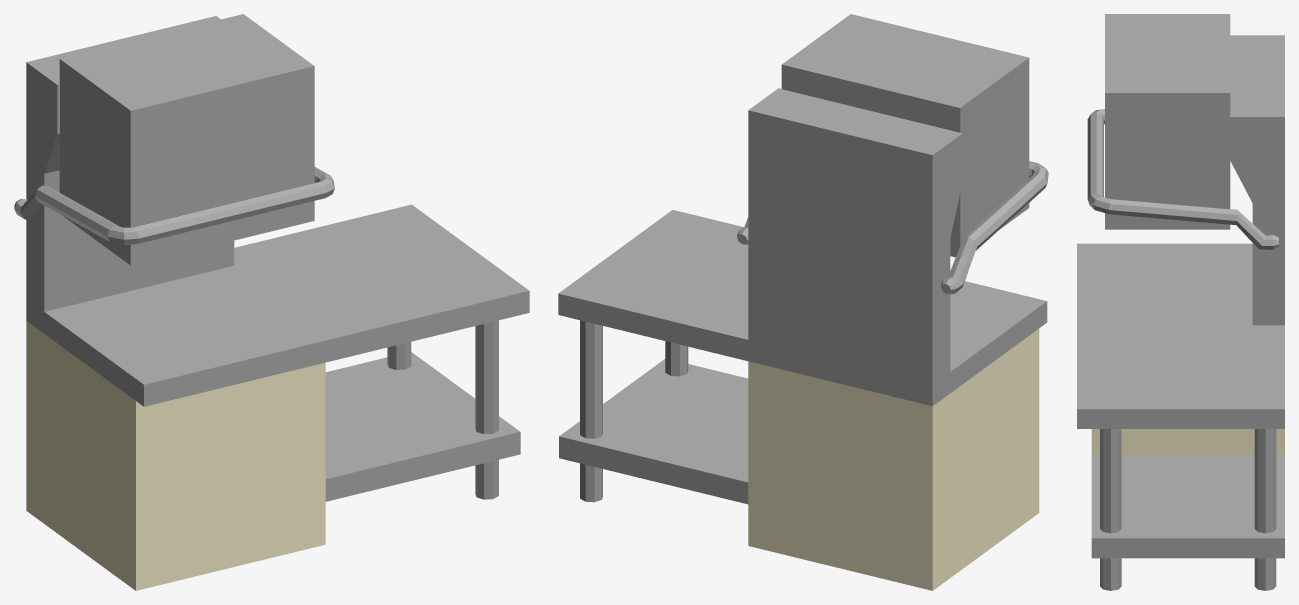
Rendered from spülmaschine.fbx.
3 renders of one model, left to right at view 1: azimuth 30°, elevation 25°; view 2: azimuth 150°, elevation 25°; view 3: azimuth 270°, elevation 25°, orthographic. The views are drawn at different scales.
Parts seen in each view (by area): view 1: Cylinder.005, Cube.002, Cylinder.003; view 2: Cylinder.005, Cube.002, Cylinder.003; view 3: Cylinder.005, Cube.002, Cylinder.003.
Boxes of the visible parts, box(x1,y1,x2,y2) form: Cylinder.005: box(26, 16, 529, 590); Cube.002: box(59, 14, 314, 265); Cylinder.003: box(14, 167, 334, 244); Cylinder.005: box(558, 88, 1047, 590); Cube.002: box(781, 14, 1029, 257); Cylinder.003: box(737, 161, 1048, 294); Cylinder.005: box(1077, 35, 1284, 590); Cube.002: box(1105, 14, 1230, 229); Cylinder.003: box(1087, 109, 1278, 249).
Size of the model in its own units: 426 by 477 by 215.
